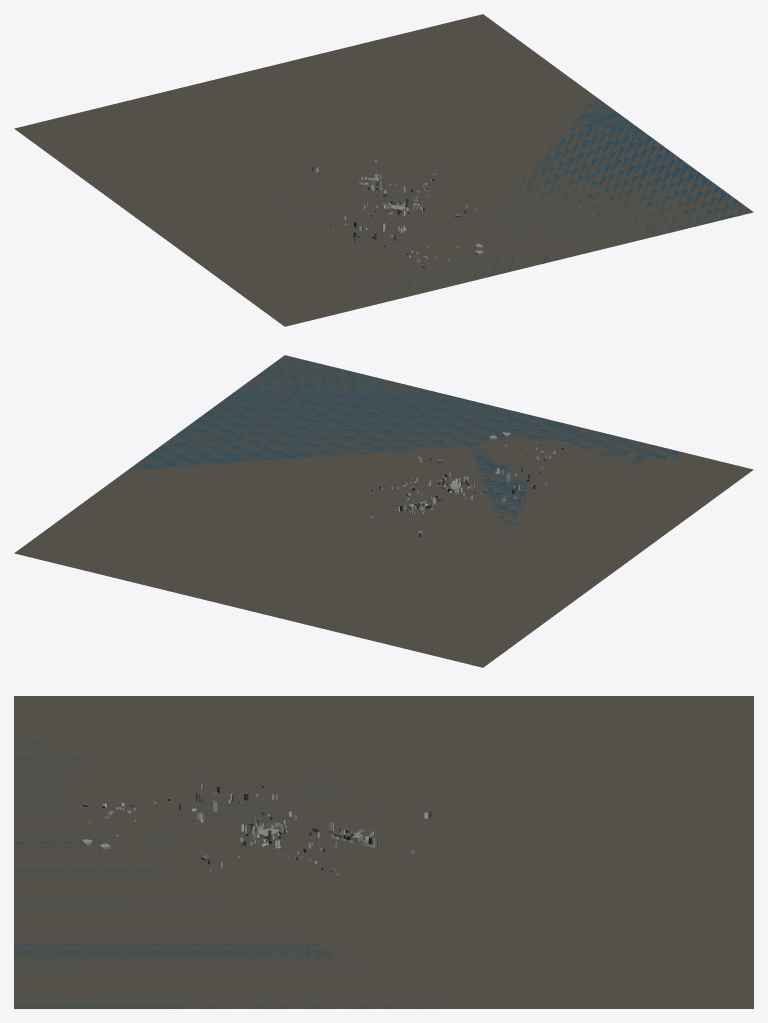
Rendered from banilad_base.glb.
3 renders of one model, top to bottom at view 1: azimuth 30°, elevation 25°; view 2: azimuth 150°, elevation 25°; view 3: azimuth 270°, elevation 25°, orthographic. The views are drawn at different scales.
Parts seen in each view (by area): view 1: Ground-col, Sea, Skyline; view 2: Ground-col, Sea, Skyline; view 3: Ground-col, Sea, Skyline.
Part boxes in pixels (x1,y1,x2,y2): Ground-col: (14, 14, 753, 326); Sea: (278, 98, 749, 306); Skyline: (309, 160, 482, 267); Ground-col: (14, 355, 753, 667); Sea: (130, 355, 679, 532); Skyline: (366, 432, 563, 537); Ground-col: (14, 696, 753, 1008); Sea: (14, 742, 440, 1008); Skyline: (81, 782, 431, 875).
Size of what is drawn, in the model's own units: 11600 by 186 by 11600.
